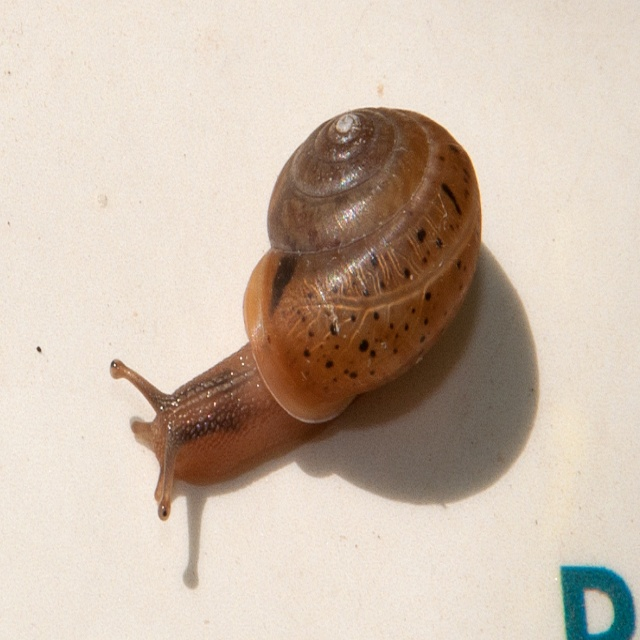Snail: (106, 102, 483, 527)
